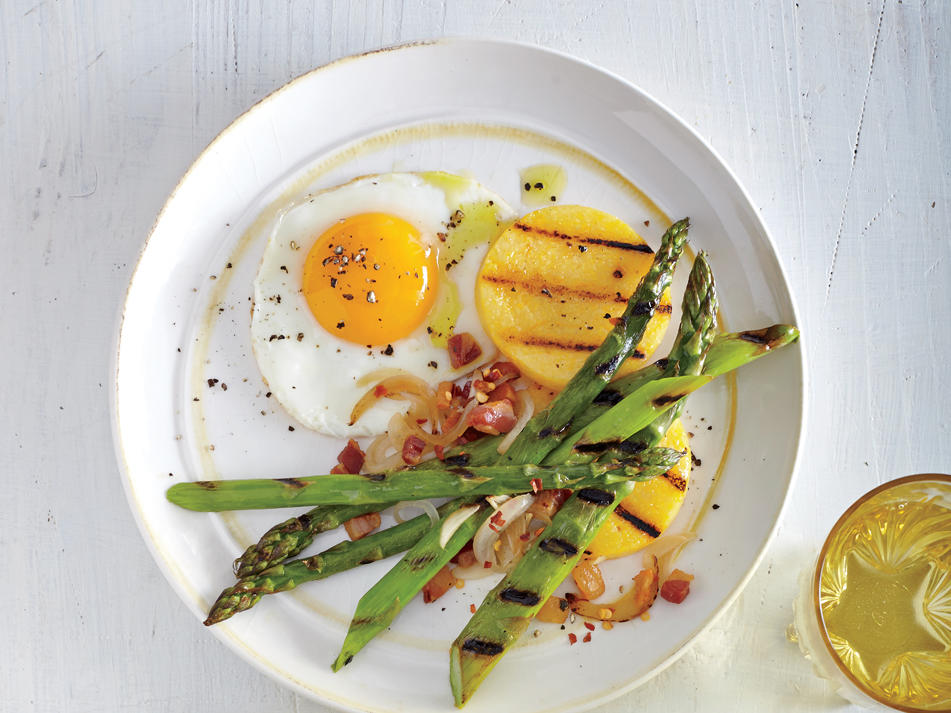boiled potatoes: (481, 209, 673, 376), (582, 425, 692, 555)
fried egg: (257, 168, 461, 433)
